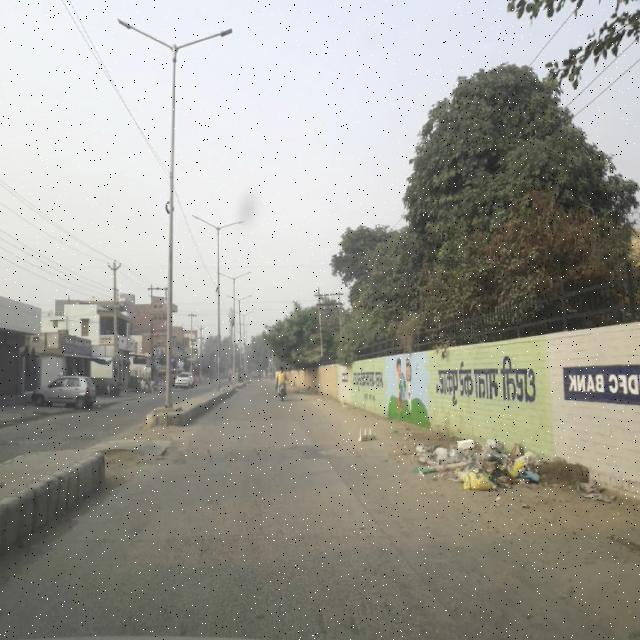D01: (380, 530, 466, 628), (329, 456, 381, 526)
D11: (40, 524, 380, 544)
